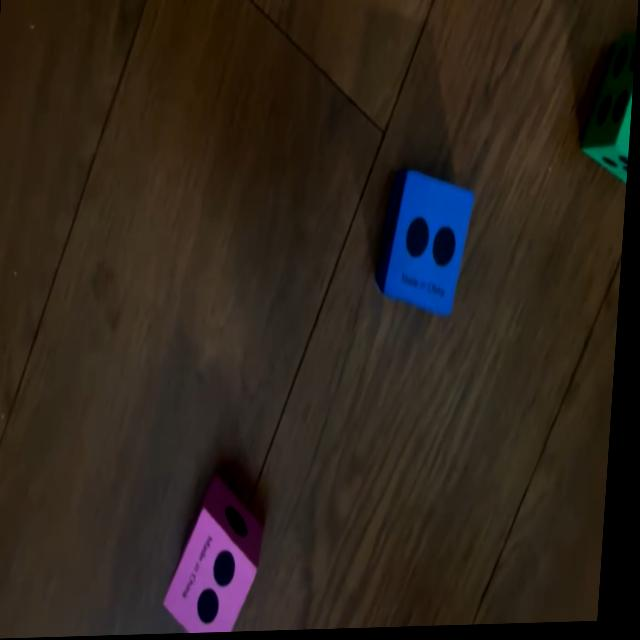blue_block: (377, 168, 477, 318)
